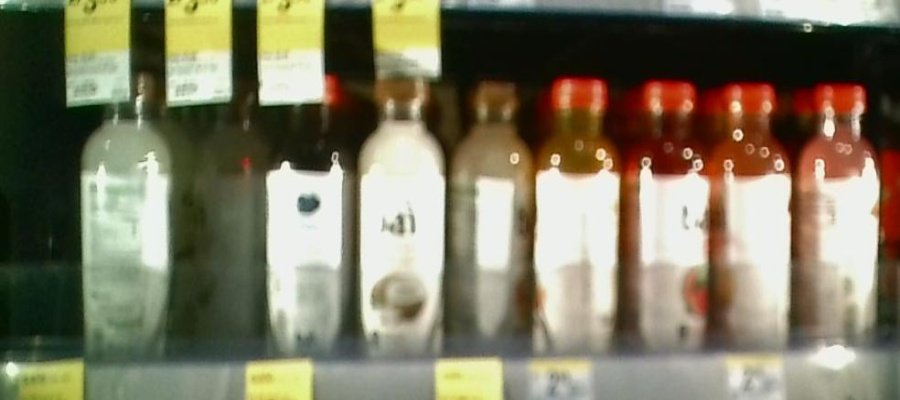bottle: (78, 70, 174, 364), (624, 62, 716, 361), (356, 58, 447, 356), (532, 72, 620, 355), (449, 71, 530, 361), (268, 72, 352, 351), (720, 67, 796, 363), (799, 64, 879, 344), (198, 89, 264, 337)
